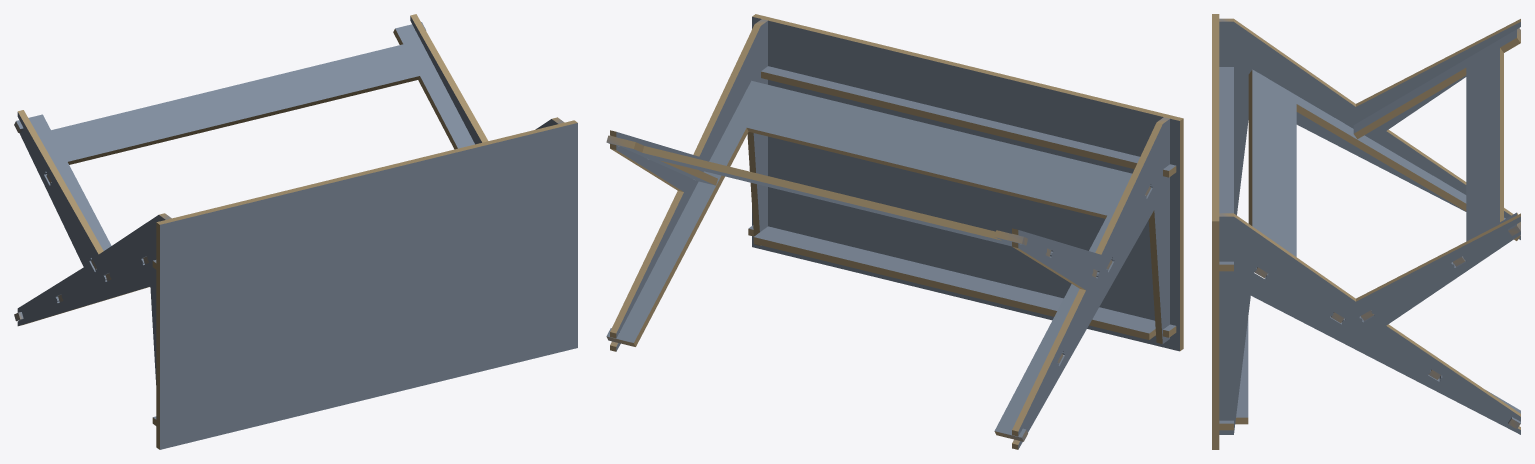
The model's file is NODO_ESCRITORIO_ESCULTORICO_CUARZO_LIMPIO_FINAL_V3.glb.
3 views of the same model, side by side, from view 1: azimuth 30°, elevation 25°; view 2: azimuth 150°, elevation 25°; view 3: azimuth 270°, elevation 25° (orthographic). The views are drawn at different scales.
Visible parts, largest first — view 1: G_Tapa_Superior_CARAS_COLOR_REAL, B_Escuadra_Trasera_cuerpo, D_Lateral_Izq_cuerpo, G_Tapa_Superior_CANTO_MDF, B_Escuadra_Trasera_canto, D_Lateral_Izq_canto, C_Lateral_Der_canto, C_Lateral_Der_cuerpo; view 2: G_Tapa_Superior_CARAS_COLOR_REAL, A_Escuadra_Delantera_cuerpo, D_Lateral_Izq_cuerpo, C_Lateral_Der_cuerpo, F_Traba_Delantera_cuerpo, B_Escuadra_Trasera_canto, D_Lateral_Izq_canto, C_Lateral_Der_canto, E_Traba_Trasera_cuerpo, A_Escuadra_Delantera_canto, E_Traba_Trasera_canto, F_Traba_Delantera_canto (+2 smaller); view 3: C_Lateral_Der_cuerpo, D_Lateral_Izq_cuerpo, A_Escuadra_Delantera_cuerpo, B_Escuadra_Trasera_cuerpo, G_Tapa_Superior_CANTO_MDF, A_Escuadra_Delantera_canto, E_Traba_Trasera_cuerpo, B_Escuadra_Trasera_canto, C_Lateral_Der_canto, D_Lateral_Izq_canto, F_Traba_Delantera_cuerpo.
Boxes of the visible parts, x1,y1,x2,y2 form: G_Tapa_Superior_CARAS_COLOR_REAL: (160, 123, 577, 449); B_Escuadra_Trasera_cuerpo: (16, 22, 474, 250); D_Lateral_Izq_cuerpo: (17, 112, 165, 384); G_Tapa_Superior_CANTO_MDF: (156, 120, 577, 449); B_Escuadra_Trasera_canto: (14, 29, 457, 269); D_Lateral_Izq_canto: (17, 110, 171, 325); C_Lateral_Der_canto: (410, 14, 564, 142); C_Lateral_Der_cuerpo: (410, 16, 557, 144); G_Tapa_Superior_CARAS_COLOR_REAL: (752, 16, 1179, 351); A_Escuadra_Delantera_cuerpo: (606, 80, 1131, 437); D_Lateral_Izq_cuerpo: (1018, 119, 1169, 449); C_Lateral_Der_cuerpo: (616, 21, 767, 351); F_Traba_Delantera_cuerpo: (749, 225, 1175, 333); B_Escuadra_Trasera_canto: (606, 135, 1097, 277); D_Lateral_Izq_canto: (1012, 117, 1169, 449); C_Lateral_Der_canto: (610, 19, 767, 351); E_Traba_Trasera_cuerpo: (761, 66, 1175, 170); A_Escuadra_Delantera_canto: (606, 128, 1150, 441); E_Traba_Trasera_canto: (761, 71, 1176, 177); F_Traba_Delantera_canto: (748, 228, 1176, 339); C_Lateral_Der_cuerpo: (1219, 216, 1520, 434); D_Lateral_Izq_cuerpo: (1219, 21, 1520, 239); A_Escuadra_Delantera_cuerpo: (1252, 69, 1520, 423); B_Escuadra_Trasera_cuerpo: (1353, 29, 1516, 241); G_Tapa_Superior_CANTO_MDF: (1212, 14, 1219, 449); A_Escuadra_Delantera_canto: (1248, 70, 1520, 428); E_Traba_Trasera_cuerpo: (1219, 67, 1233, 264); B_Escuadra_Trasera_canto: (1354, 28, 1520, 320); C_Lateral_Der_canto: (1219, 213, 1520, 429); D_Lateral_Izq_canto: (1219, 18, 1520, 215); F_Traba_Delantera_cuerpo: (1219, 318, 1248, 423).
Size of what is drawn, in the model's own units: 1.22 by 0.628 by 0.7681.
